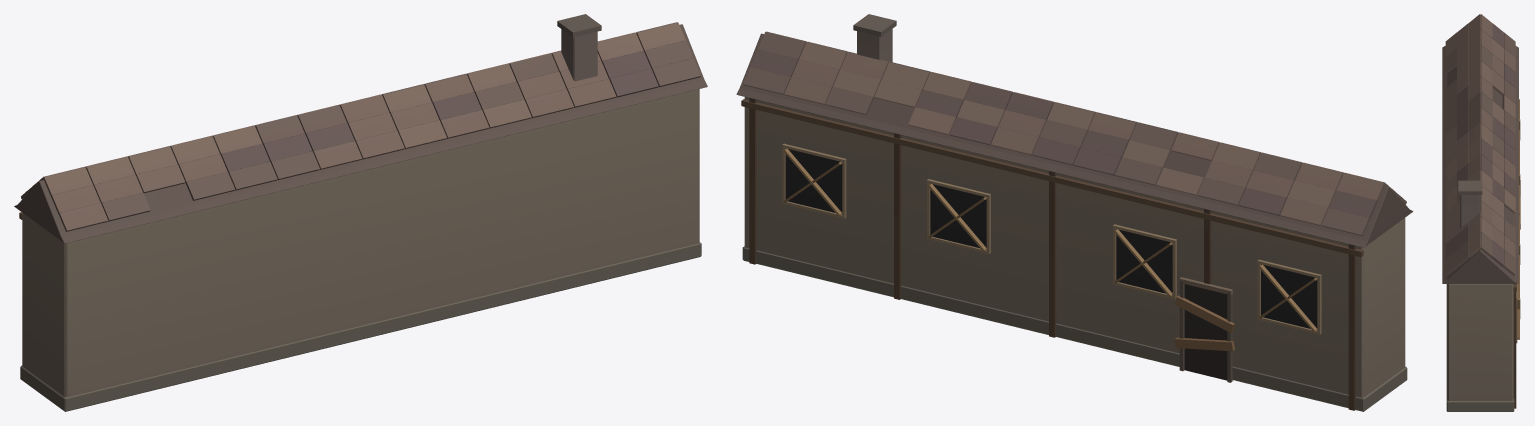
File: AV_HouseLongB.glb
3 views of the same model, side by side, from view 1: azimuth 30°, elevation 25°; view 2: azimuth 150°, elevation 25°; view 3: azimuth 270°, elevation 25° (orthographic). The views are drawn at different scales.
Parts seen in each view (by area): view 1: AV_HouseLongB__Body; view 2: AV_HouseLongB__Body; view 3: AV_HouseLongB__Body.
Boxes of the visible parts, bbox=[...] form: AV_HouseLongB__Body: bbox=[14, 14, 707, 411]; AV_HouseLongB__Body: bbox=[736, 14, 1413, 411]; AV_HouseLongB__Body: bbox=[1442, 14, 1520, 411].
Size of the model in its own units: 60.8 by 22.43 by 8.54.
